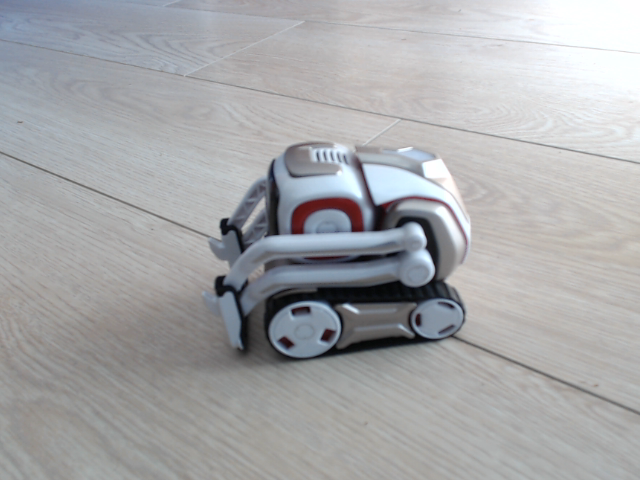cozmo: (206, 138, 475, 377)
